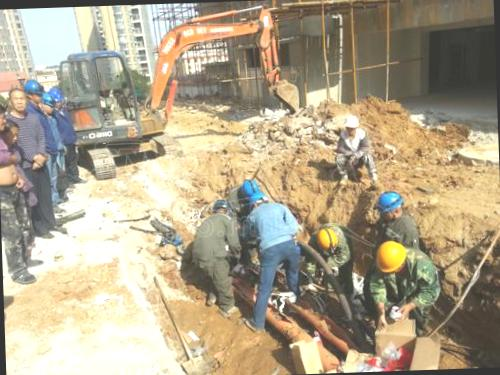no_helmet: (6, 84, 30, 116), (0, 118, 22, 149)
